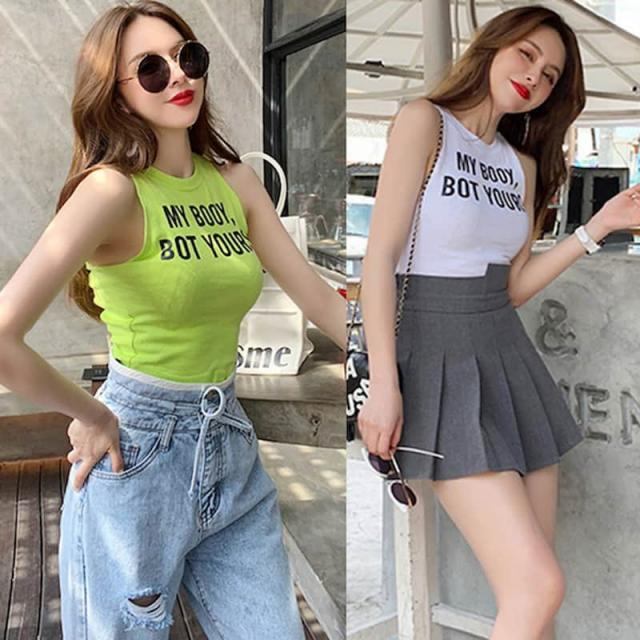clothes: (54, 156, 304, 639), (367, 94, 584, 484)
